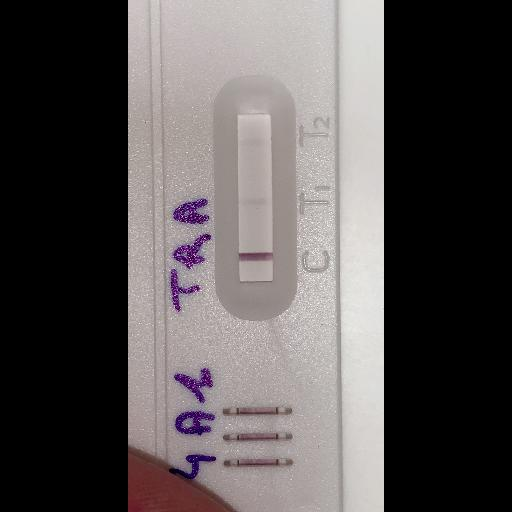Pos: (127, 0, 345, 511)
